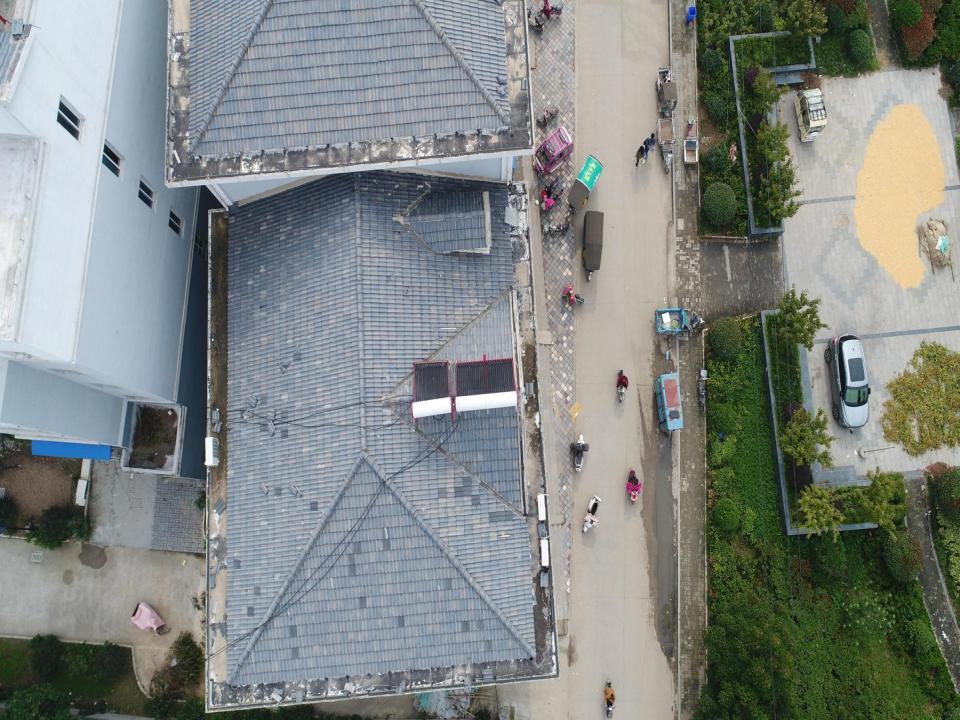car: (822, 332, 872, 430)
